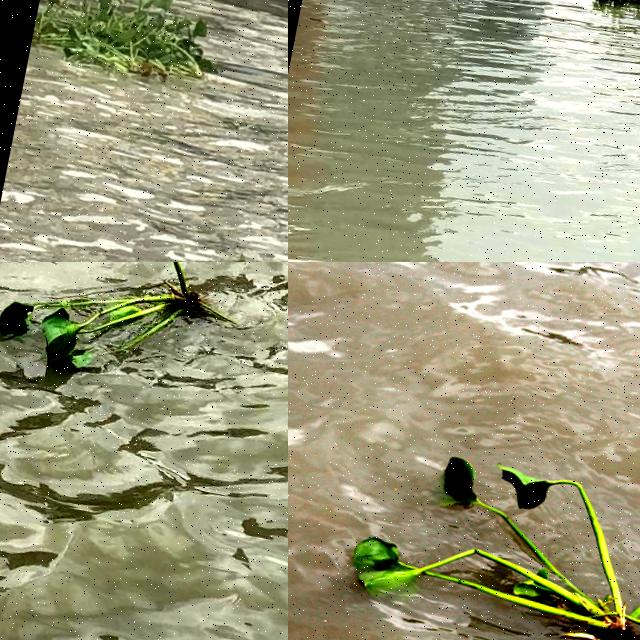water-hyacinth: (324, 425, 640, 640), (1, 263, 257, 403), (29, 1, 231, 94), (585, 1, 640, 28)
